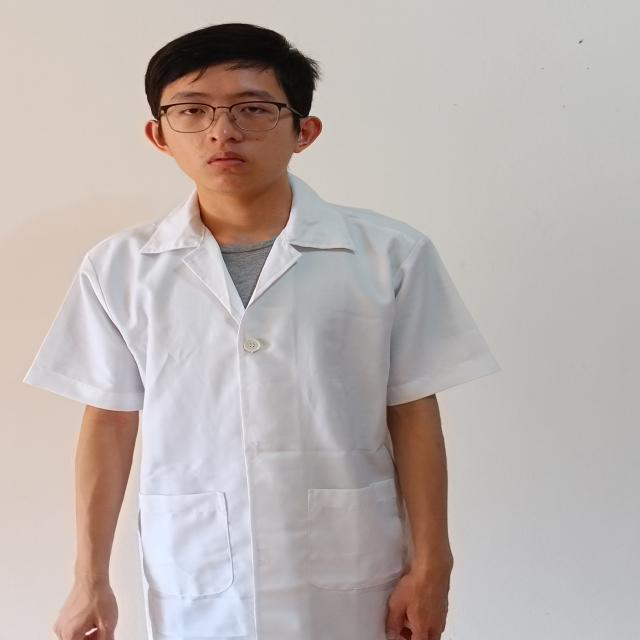person_with_labcoat: (25, 24, 498, 640)
